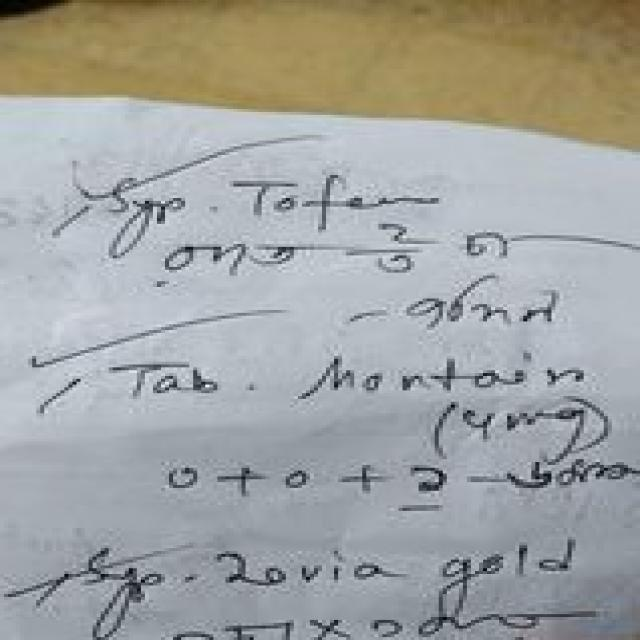Montair: (306, 343, 603, 412)
Tofen: (227, 169, 443, 233)
Zovia Gold: (200, 528, 591, 603)
